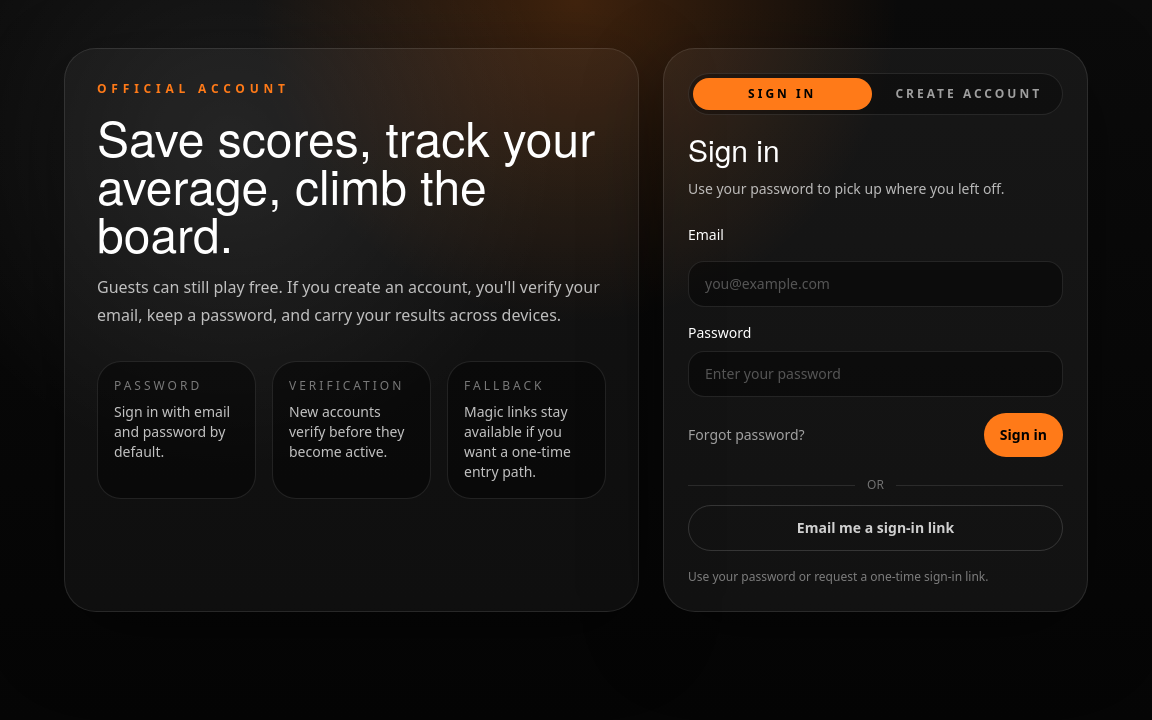
Test: LoginForm › sends a generic, existing-account-only magic link using the current email
The width and height of the screenshot is (1152, 720).
In the field labelled "Email": (876, 284) [688,261,1063,307], type " Player@Example.com "
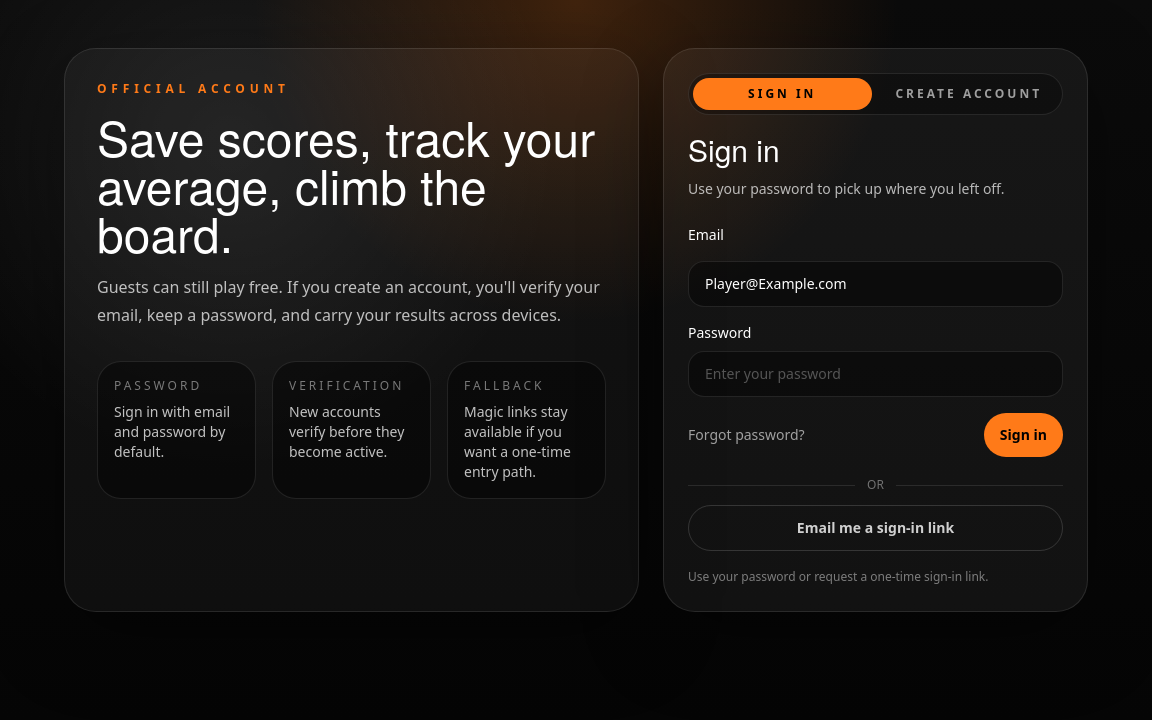
Click the button "Email me a sign-in link": (876, 528) [688,505,1063,551]
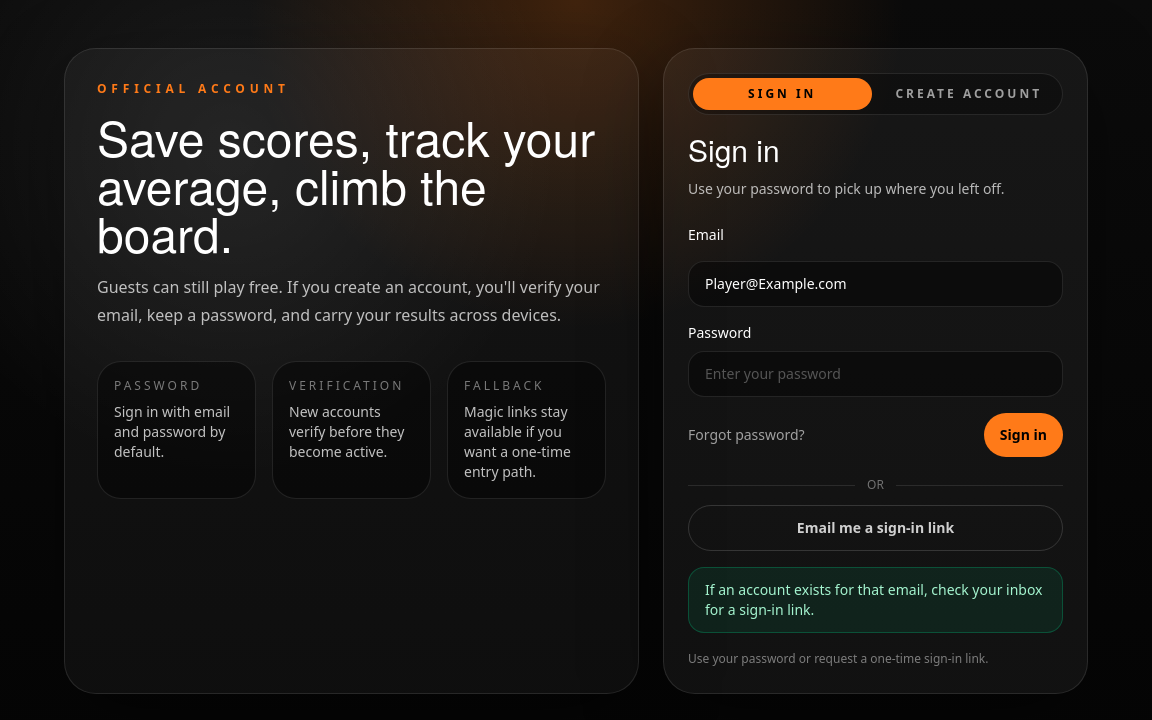
Now the text "If an account exists for that email, check your inbox for a sign-in link." is shown, box [688,567,1063,633]
